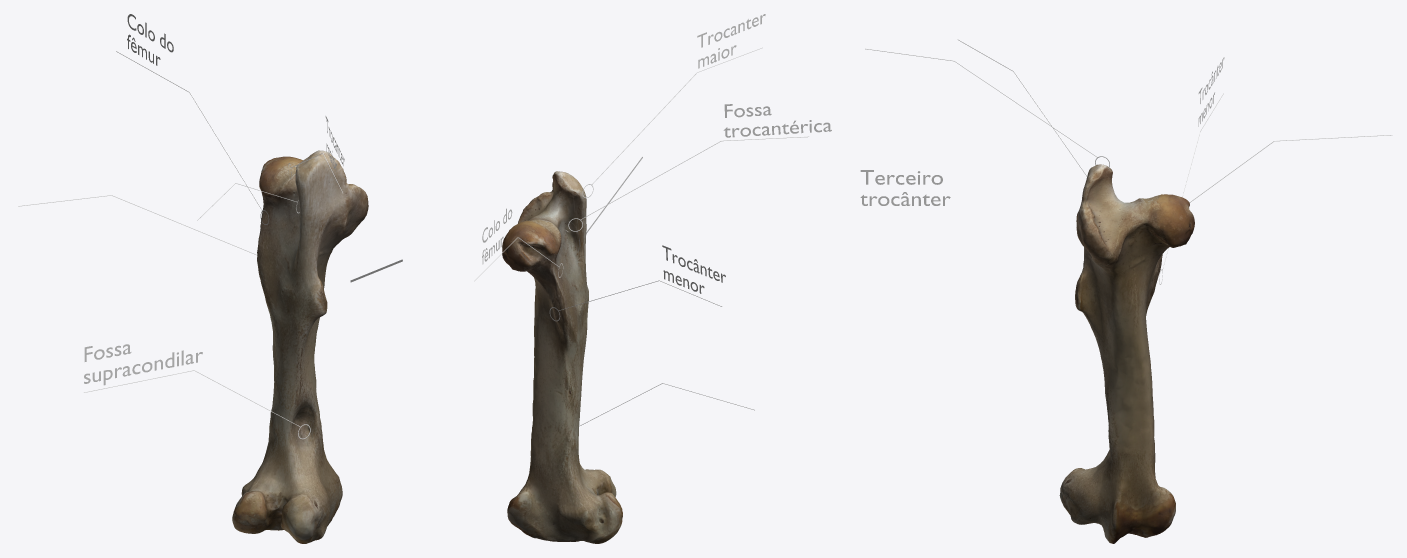
Rendered from Femur-editado_modelo-teste.1.glb.
The picture shows the model from 3 angles, left to right: view 1: azimuth 30°, elevation 25°; view 2: azimuth 150°, elevation 25°; view 3: azimuth 270°, elevation 25°; orthographic projection. The views are drawn at different scales.
Visible parts, largest first — view 1: Mesh_0, Texto.002; view 2: Mesh_0, Texto.005, Texto.003, Texto.006; view 3: Mesh_0, Texto.001.
Part boxes in pixels (bbox=[...]): Mesh_0: bbox=[232, 150, 368, 543]; Texto.002: bbox=[84, 344, 202, 385]; Mesh_0: bbox=[502, 171, 622, 543]; Texto.005: bbox=[723, 104, 831, 137]; Texto.003: bbox=[662, 245, 725, 293]; Texto.006: bbox=[697, 14, 765, 68]; Mesh_0: bbox=[1059, 164, 1194, 543]; Texto.001: bbox=[860, 170, 950, 205].
Bounding box in the file's own units: 1.5 × 2.47 × 2.46.
6 materials, 1 textured.
